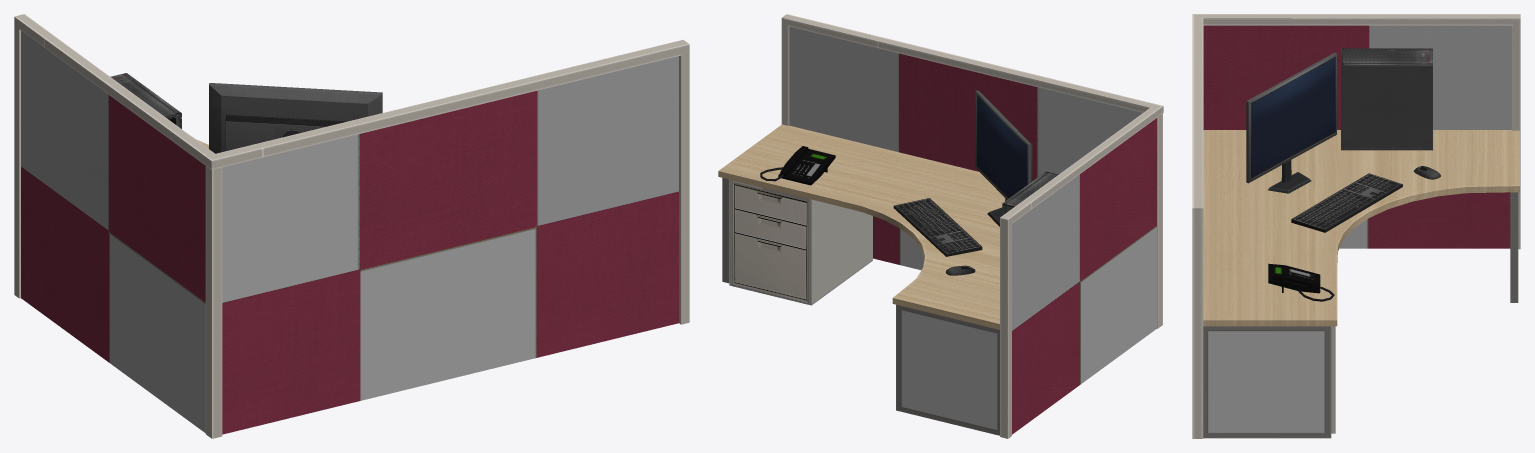
File: Office_Cube_v01.fbx
3 renders of one model, left to right at view 1: azimuth 30°, elevation 25°; view 2: azimuth 150°, elevation 25°; view 3: azimuth 270°, elevation 25°, orthographic. The views are drawn at different scales.
Parts seen in each view (by area): view 1: Office_Cube_1; view 2: Office_Cube_1; view 3: Office_Cube_1.
Part boxes in pixels (bbox=[...]): Office_Cube_1: bbox=[14, 14, 689, 438]; Office_Cube_1: bbox=[718, 14, 1163, 438]; Office_Cube_1: bbox=[1192, 14, 1520, 438].
Size of the model in its own units: 200 by 111 by 143.
